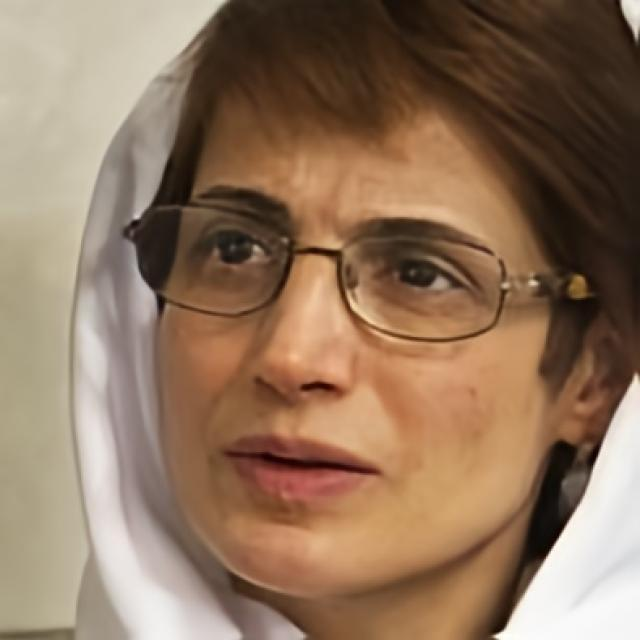disgust: (149, 94, 553, 602)
